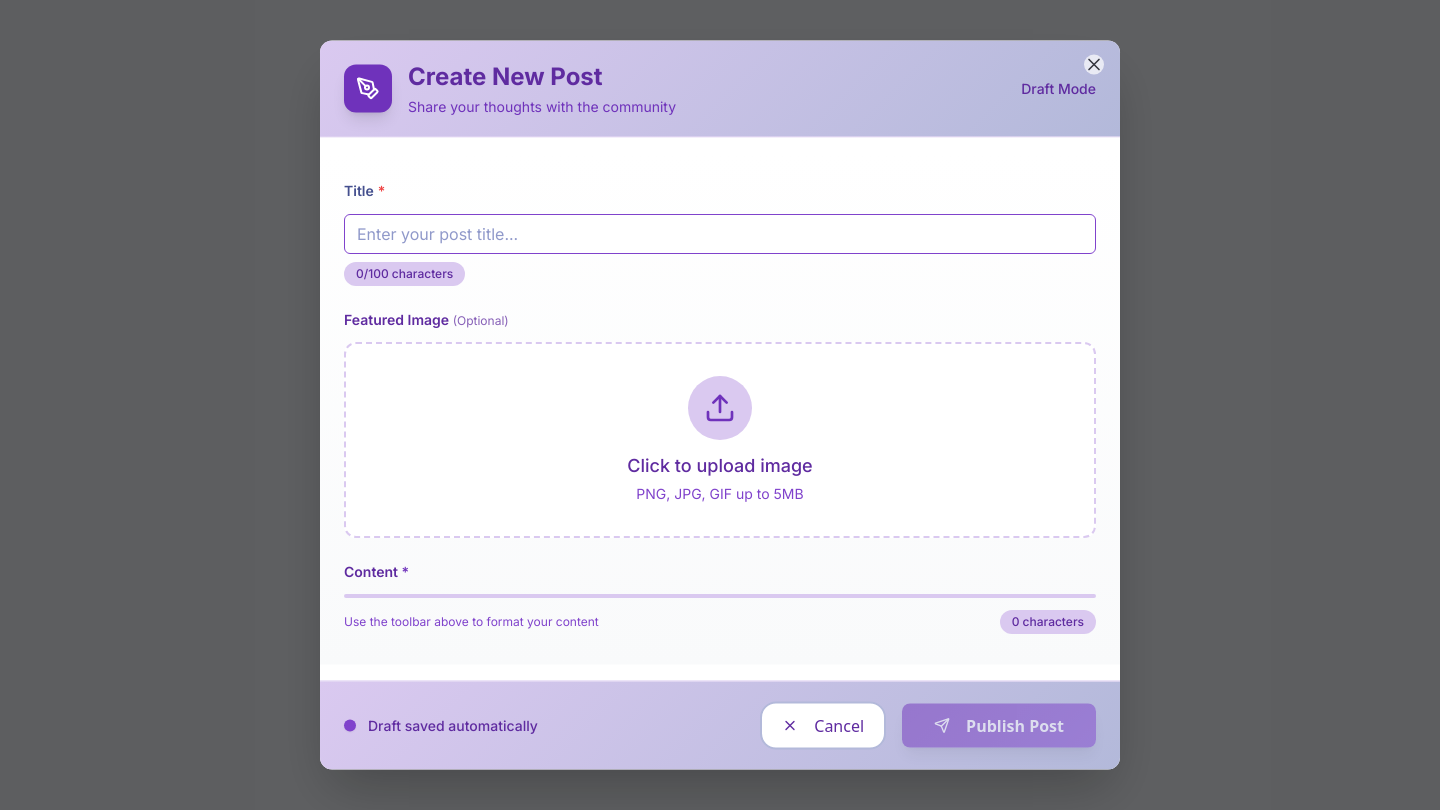
CreatePostModal › Error Handling › shows error status for auto-save failure
Type "Updated Title" into the field labelled "Title*" at (720, 234), box [357, 222, 1083, 244]
Wait 3000 ms
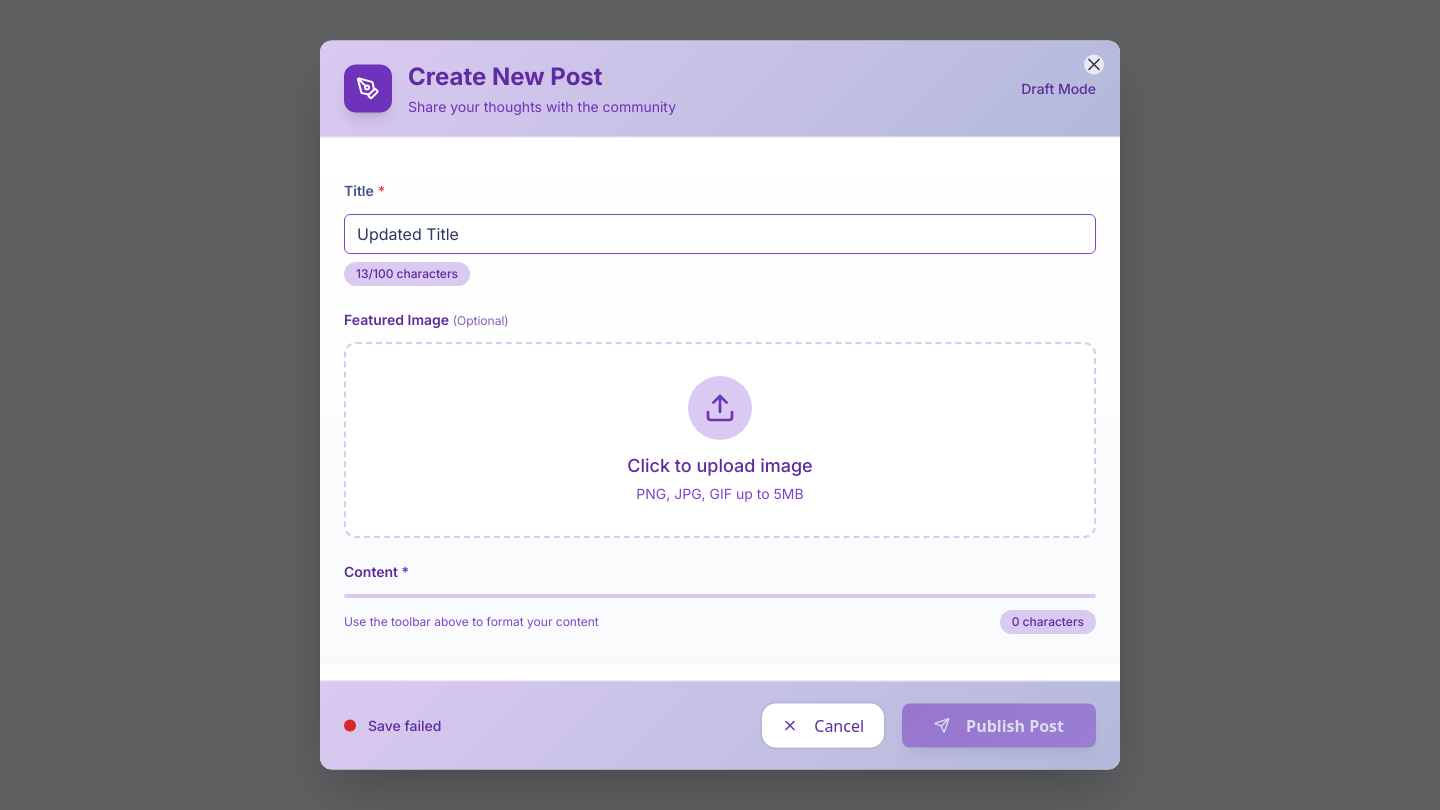
Expected: the text "Save failed" is shown, [368, 716, 442, 736]
